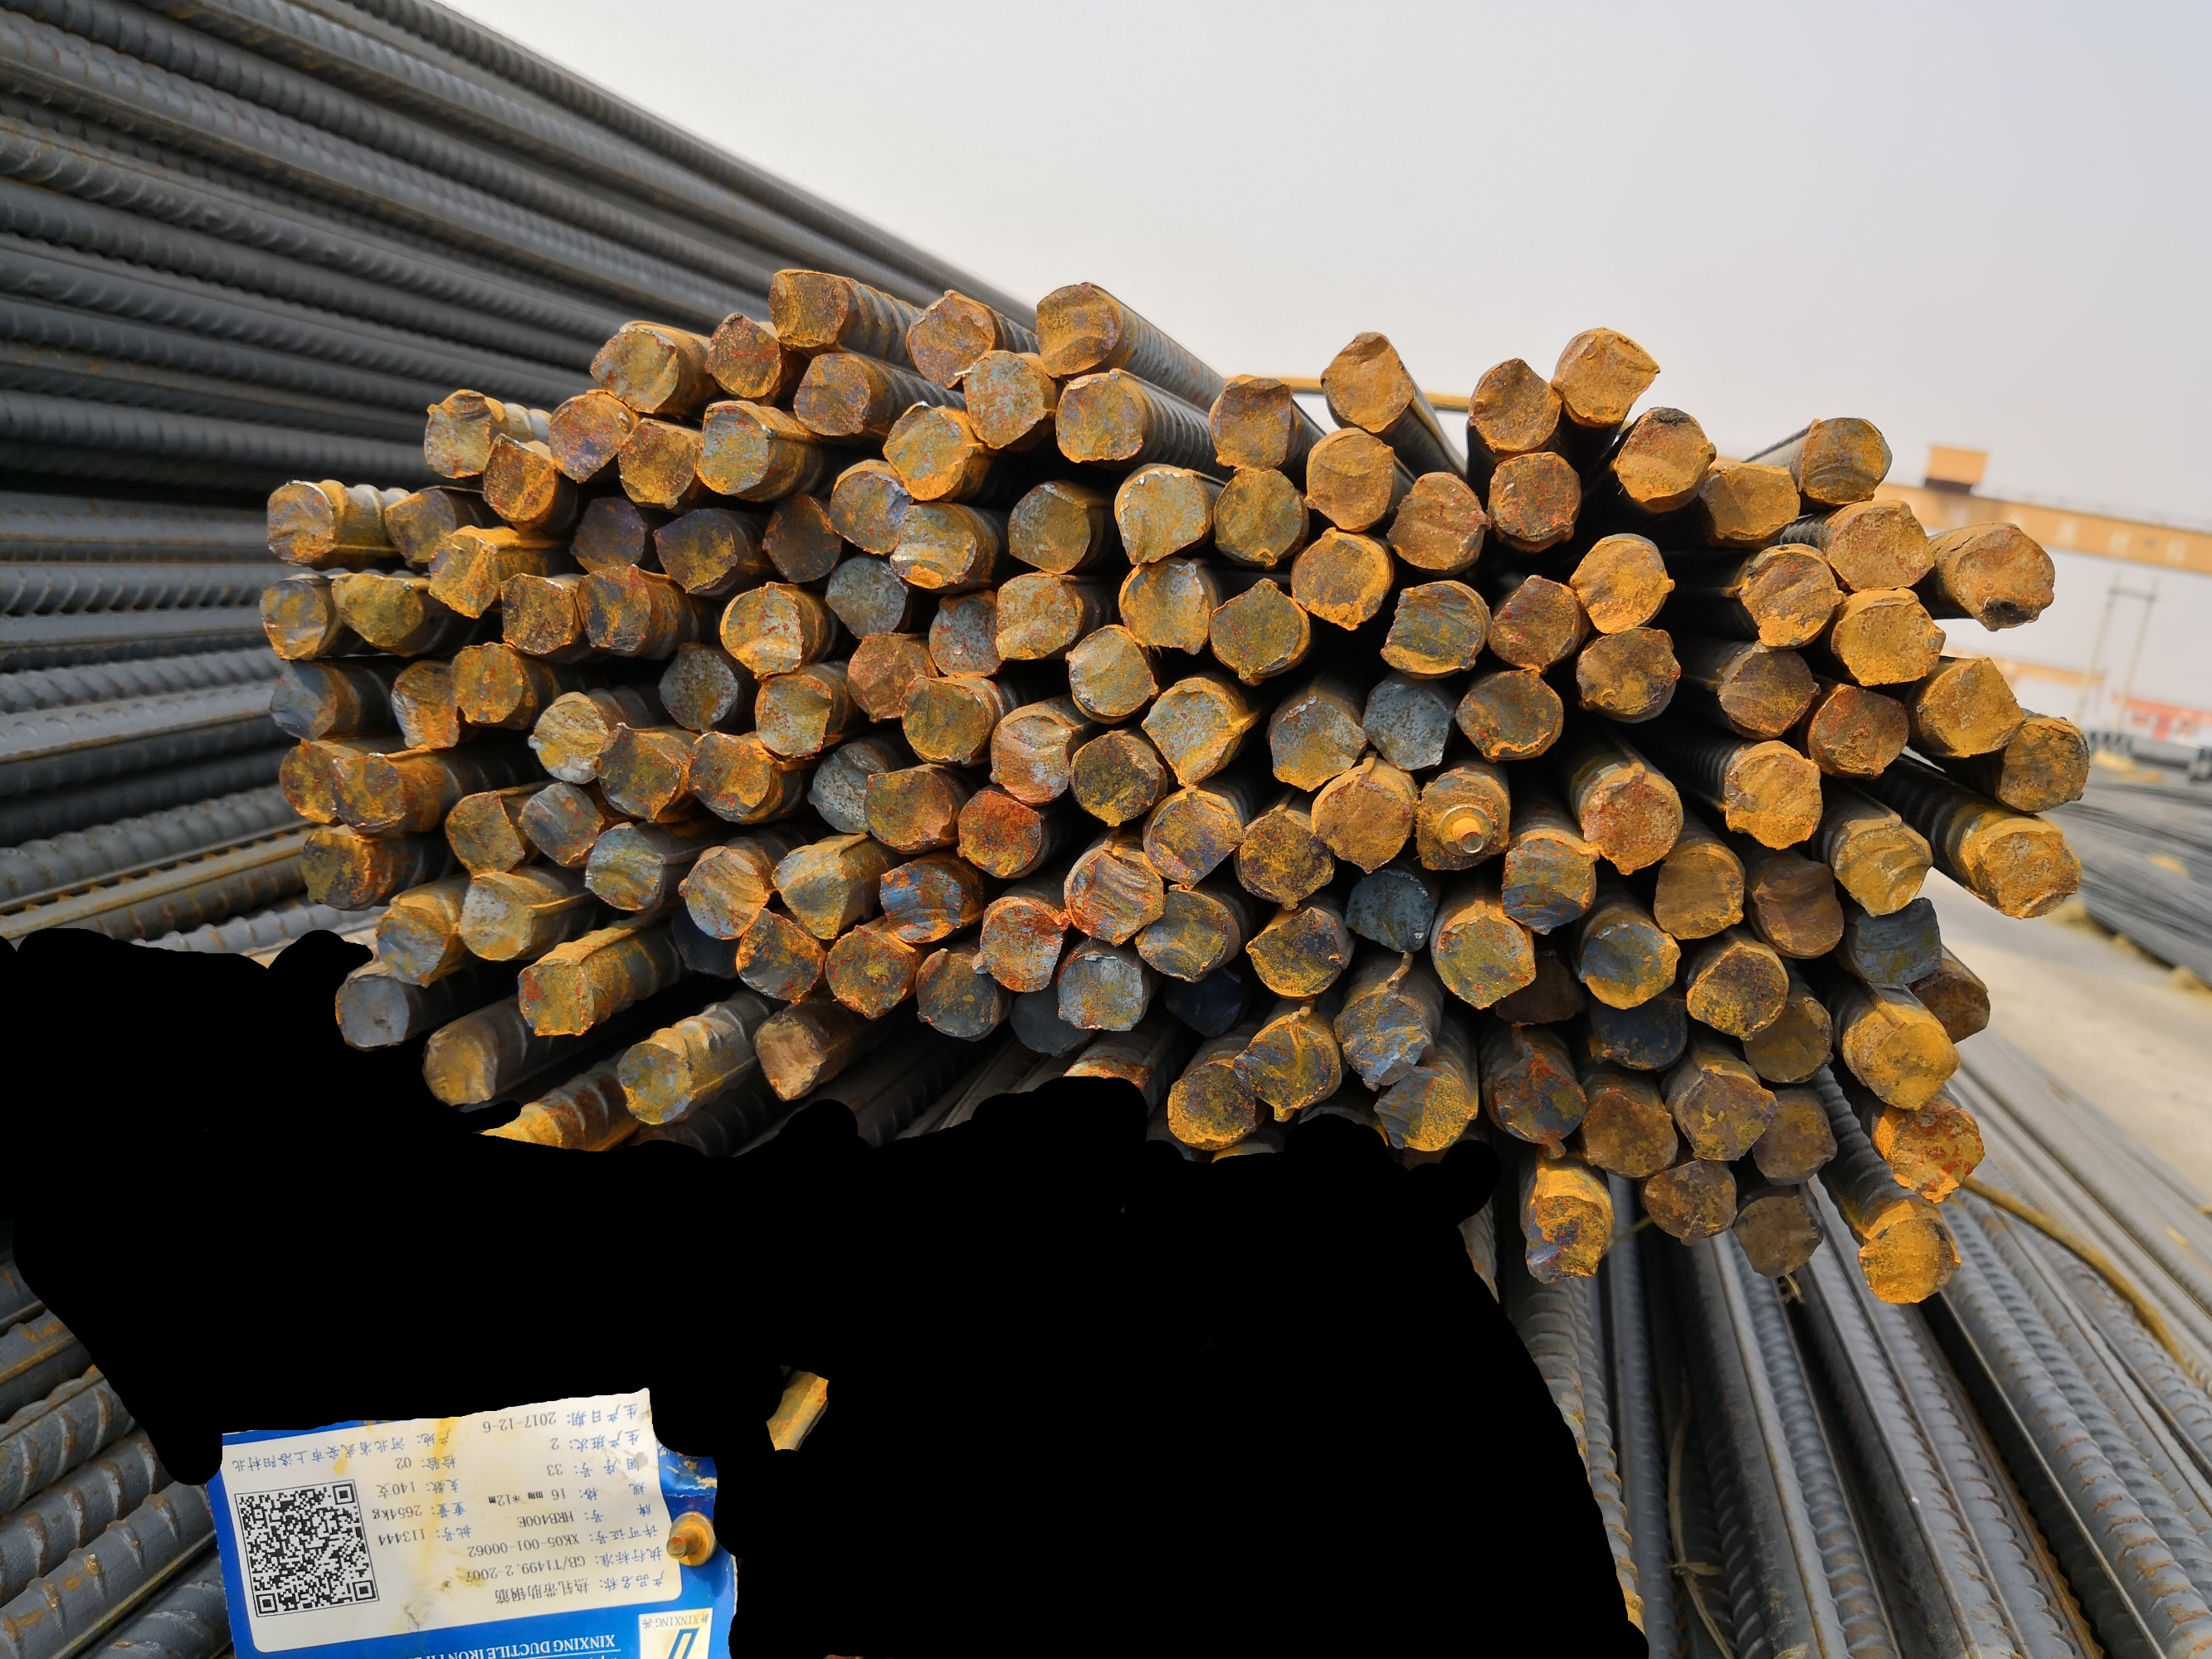rebar: (1938, 519, 2060, 633), (1724, 542, 1844, 650), (1546, 322, 1665, 430), (1832, 582, 1951, 690), (1328, 978, 1438, 1093), (1562, 528, 1679, 636), (1579, 760, 1686, 878), (1851, 995, 1959, 1110), (1645, 828, 1748, 946), (1912, 655, 2025, 762), (1140, 673, 1245, 788), (1231, 802, 1339, 911), (1238, 1012, 1344, 1124), (1422, 906, 1537, 1009), (1964, 817, 2083, 917), (1717, 742, 1827, 849), (1483, 1042, 1584, 1157), (1304, 765, 1412, 871), (1851, 1206, 1961, 1310), (1377, 579, 1490, 680), (1286, 523, 1393, 629), (1989, 706, 2093, 814), (1747, 849, 1849, 958), (1572, 624, 1684, 725), (1876, 1098, 1987, 1199), (1062, 840, 1168, 945), (1055, 619, 1161, 723), (1804, 678, 1910, 782), (1300, 420, 1398, 533), (879, 397, 983, 502), (1497, 831, 1600, 938), (1365, 1060, 1478, 1155), (1612, 404, 1717, 507), (1264, 692, 1368, 795), (1578, 908, 1682, 1011), (1832, 812, 1935, 917), (1114, 551, 1215, 657), (1483, 566, 1584, 673), (1243, 899, 1351, 999), (1414, 763, 1511, 873), (1137, 786, 1241, 887), (1049, 362, 1150, 467), (1578, 1079, 1682, 1180), (1135, 875, 1232, 983), (1208, 573, 1306, 681), (732, 901, 828, 1011), (1457, 669, 1569, 763), (1679, 1061, 1778, 1166), (587, 716, 682, 826), (1461, 354, 1562, 455), (1794, 408, 1895, 509), (544, 383, 641, 488), (1316, 331, 1415, 432), (1356, 674, 1455, 775), (1517, 1182, 1618, 1281), (675, 840, 772, 943), (901, 284, 997, 389), (1687, 941, 1792, 1037), (1713, 643, 1818, 739), (1823, 502, 1935, 591), (1159, 1056, 1259, 1155), (587, 317, 685, 418), (1389, 471, 1487, 572), (1579, 985, 1691, 1072), (1210, 467, 1307, 566), (1114, 464, 1210, 565), (959, 347, 1055, 448), (713, 575, 807, 678), (1072, 727, 1166, 829), (1487, 448, 1581, 551), (1700, 450, 1802, 544), (1642, 1152, 1741, 1248), (819, 918, 913, 1019), (689, 725, 781, 828), (1727, 1187, 1827, 1281), (1032, 279, 1124, 380), (1001, 477, 1096, 573), (1745, 1089, 1841, 1185), (610, 1028, 704, 1126), (973, 899, 1070, 993), (1741, 986, 1835, 1084), (765, 836, 854, 939), (1846, 896, 1942, 990), (988, 568, 1081, 666), (802, 739, 891, 840), (844, 631, 940, 723), (577, 819, 668, 917), (899, 671, 990, 769), (439, 781, 528, 880), (519, 687, 608, 786), (885, 502, 981, 592), (1208, 373, 1299, 469), (614, 410, 699, 511), (415, 382, 499, 484), (824, 458, 913, 554), (657, 636, 743, 735), (692, 399, 777, 498), (988, 706, 1074, 805), (328, 568, 429, 652), (863, 765, 955, 856), (511, 946, 600, 1040), (453, 868, 540, 964), (915, 946, 1002, 1042), (321, 742, 406, 840), (368, 892, 451, 992), (875, 863, 976, 945), (1485, 948, 1588, 1028), (648, 505, 739, 596), (953, 788, 1042, 880), (471, 432, 558, 526), (924, 587, 1011, 681), (758, 490, 844, 586), (1340, 866, 1436, 951), (493, 568, 579, 662), (1051, 950, 1147, 1033), (573, 559, 655, 657), (758, 261, 847, 350), (329, 960, 415, 1053), (295, 819, 377, 915), (383, 657, 464, 755), (751, 1007, 830, 1107), (748, 671, 837, 758), (514, 779, 605, 864), (443, 636, 528, 727), (417, 1019, 504, 1107), (1006, 976, 1096, 1060), (791, 345, 873, 437), (706, 307, 786, 401), (375, 481, 458, 570), (258, 657, 343, 742), (424, 530, 506, 619), (261, 477, 338, 572), (1912, 958, 1994, 1046), (824, 552, 910, 634), (254, 573, 331, 664), (563, 493, 648, 572), (272, 739, 343, 826)
